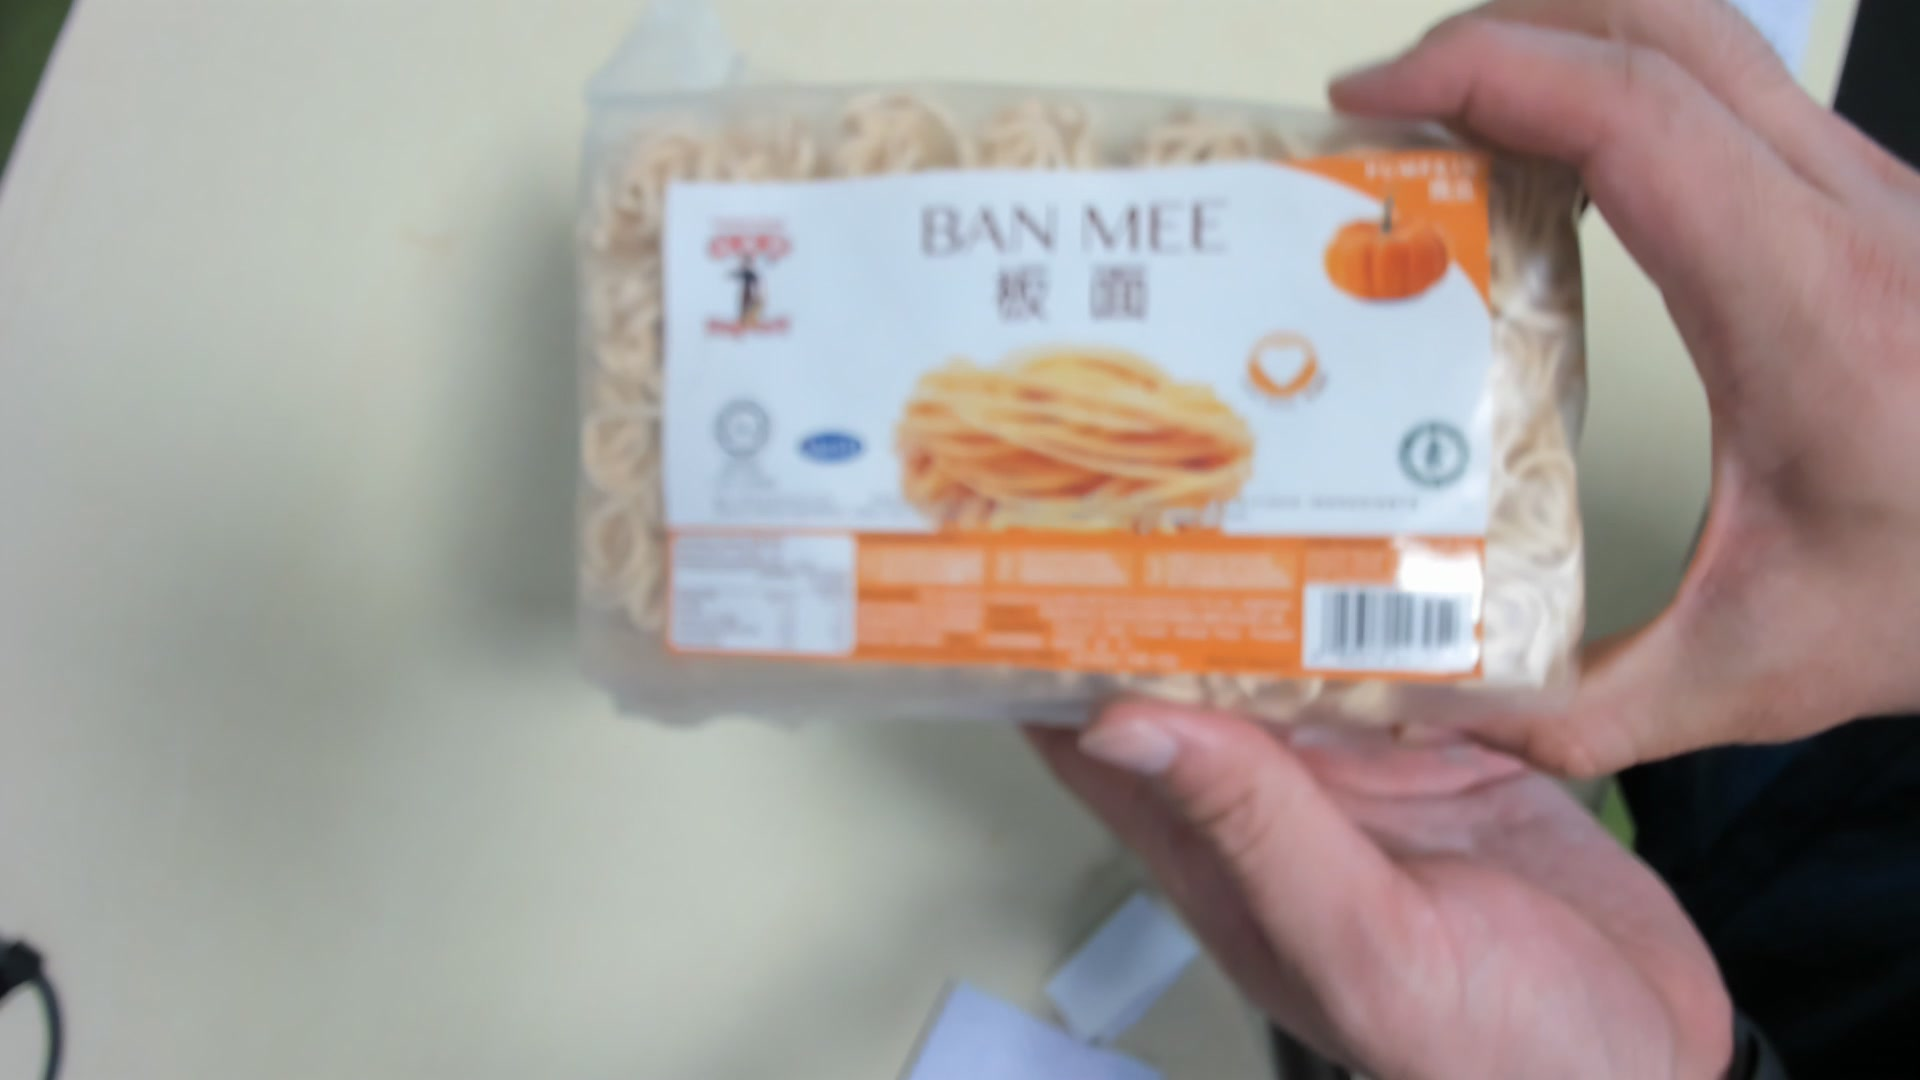OtherNoodles_500-599g_Halal_NonHealthy: (578, 88, 1588, 721)
